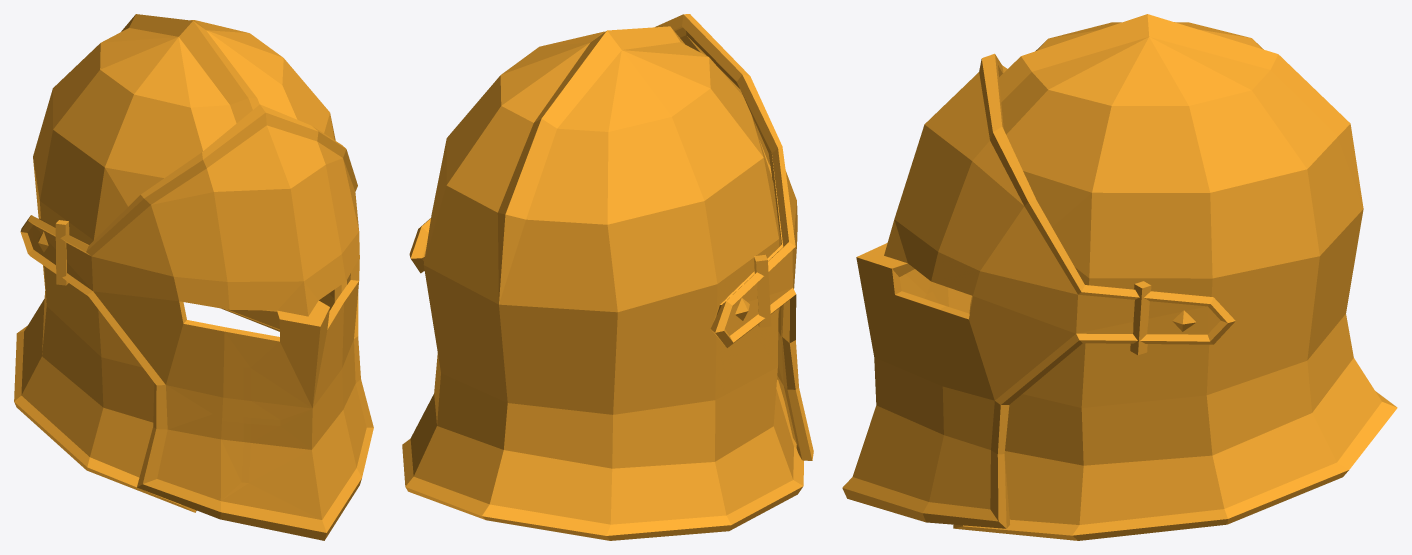
The model's file is SM_Helmet_Barbuta_Visored.fbx.
3 renders of one model, left to right at view 1: azimuth 30°, elevation 25°; view 2: azimuth 150°, elevation 25°; view 3: azimuth 270°, elevation 25°, orthographic. The views are drawn at different scales.
Parts seen in each view (by area): view 1: helmet-barbuta-visored-visor, helmet-barbuta-visored-helmet; view 2: helmet-barbuta-visored-helmet, helmet-barbuta-visored-visor; view 3: helmet-barbuta-visored-helmet, helmet-barbuta-visored-visor.
Part boxes in pixels (left/top/right/bottom): helmet-barbuta-visored-visor: left=20, top=104, right=373, bottom=540; helmet-barbuta-visored-helmet: left=14, top=14, right=346, bottom=512; helmet-barbuta-visored-helmet: left=402, top=26, right=803, bottom=540; helmet-barbuta-visored-visor: left=409, top=14, right=813, bottom=460; helmet-barbuta-visored-helmet: left=953, top=14, right=1397, bottom=540; helmet-barbuta-visored-visor: left=842, top=53, right=1235, bottom=528.
Size of the model in its own units: 0.2153 by 0.3031 by 0.3149.
